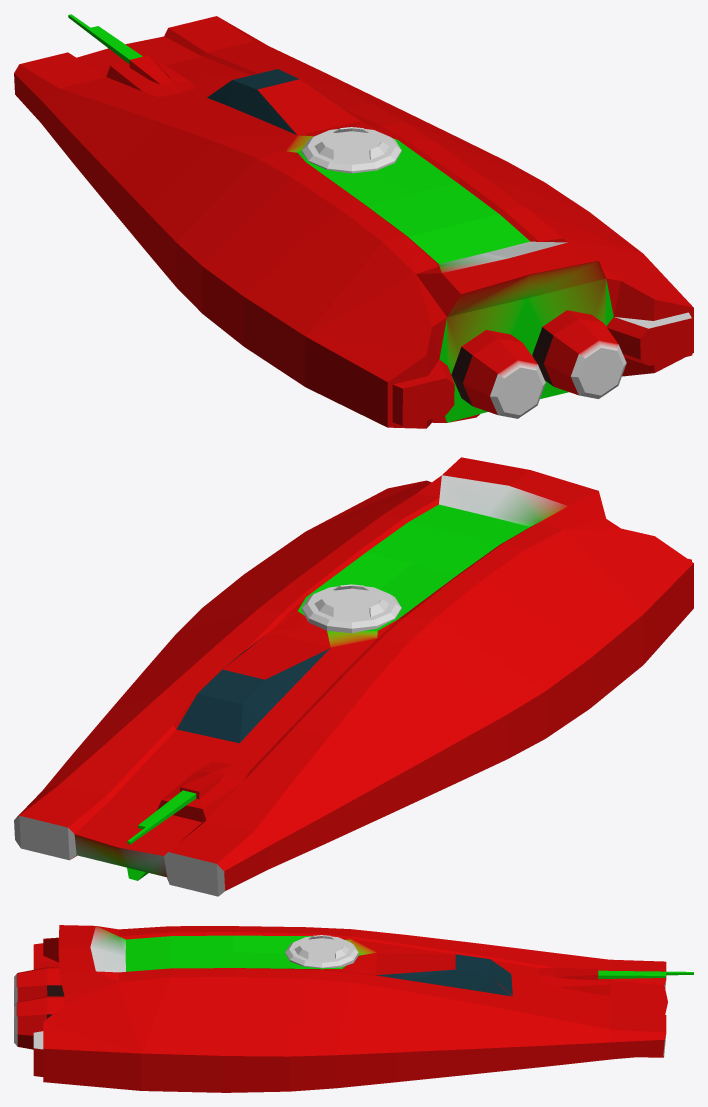
Rendered from coronatrix_coll.dae.
3 renders of one model, top to bottom at view 1: azimuth 30°, elevation 25°; view 2: azimuth 150°, elevation 25°; view 3: azimuth 270°, elevation 25°, orthographic. The views are drawn at different scales.
Parts seen in each view (by area): view 1: Coronatrix_collision; view 2: Coronatrix_collision; view 3: Coronatrix_collision.
Part boxes in pixels (x1,y1,x2,y2): Coronatrix_collision: (14,14,693,428); Coronatrix_collision: (14,457,693,896); Coronatrix_collision: (14,925,693,1092).
Bounding box in the file's own units: 7.62 × 17.62 × 3.98.
